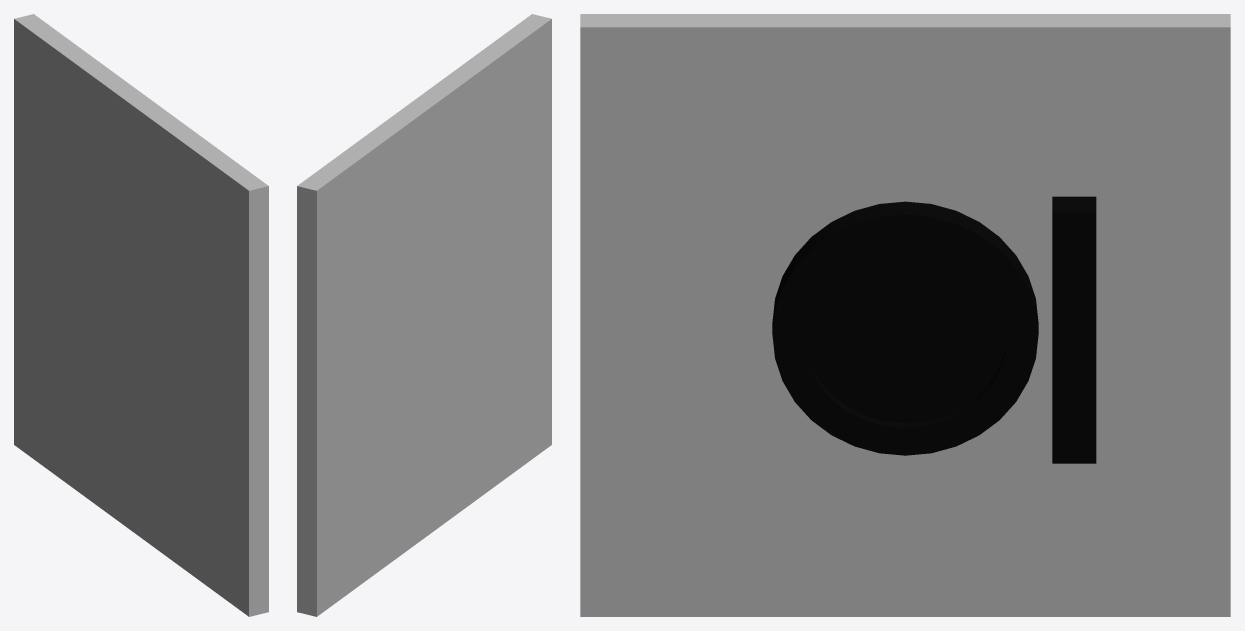
File: safe-front.fbx
3 renders of one model, left to right at view 1: azimuth 30°, elevation 25°; view 2: azimuth 150°, elevation 25°; view 3: azimuth 270°, elevation 25°, orthographic. The views are drawn at different scales.
Parts seen in each view (by area): view 1: Cube; view 2: Cube; view 3: Cube.
Boxes of the visible parts, bbox=[...] form: Cube: bbox=[14, 14, 268, 616]; Cube: bbox=[297, 14, 551, 616]; Cube: bbox=[580, 14, 1230, 616].
Size of the model in its own units: 21.39 by 200 by 200.
